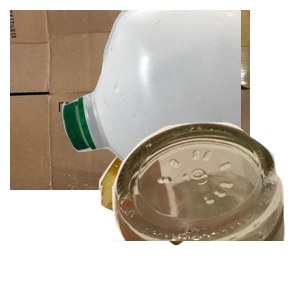cardboard: (10, 10, 250, 190)
glass: (89, 120, 300, 300)
plastic: (60, 10, 300, 190)
trash: (96, 145, 295, 300)
